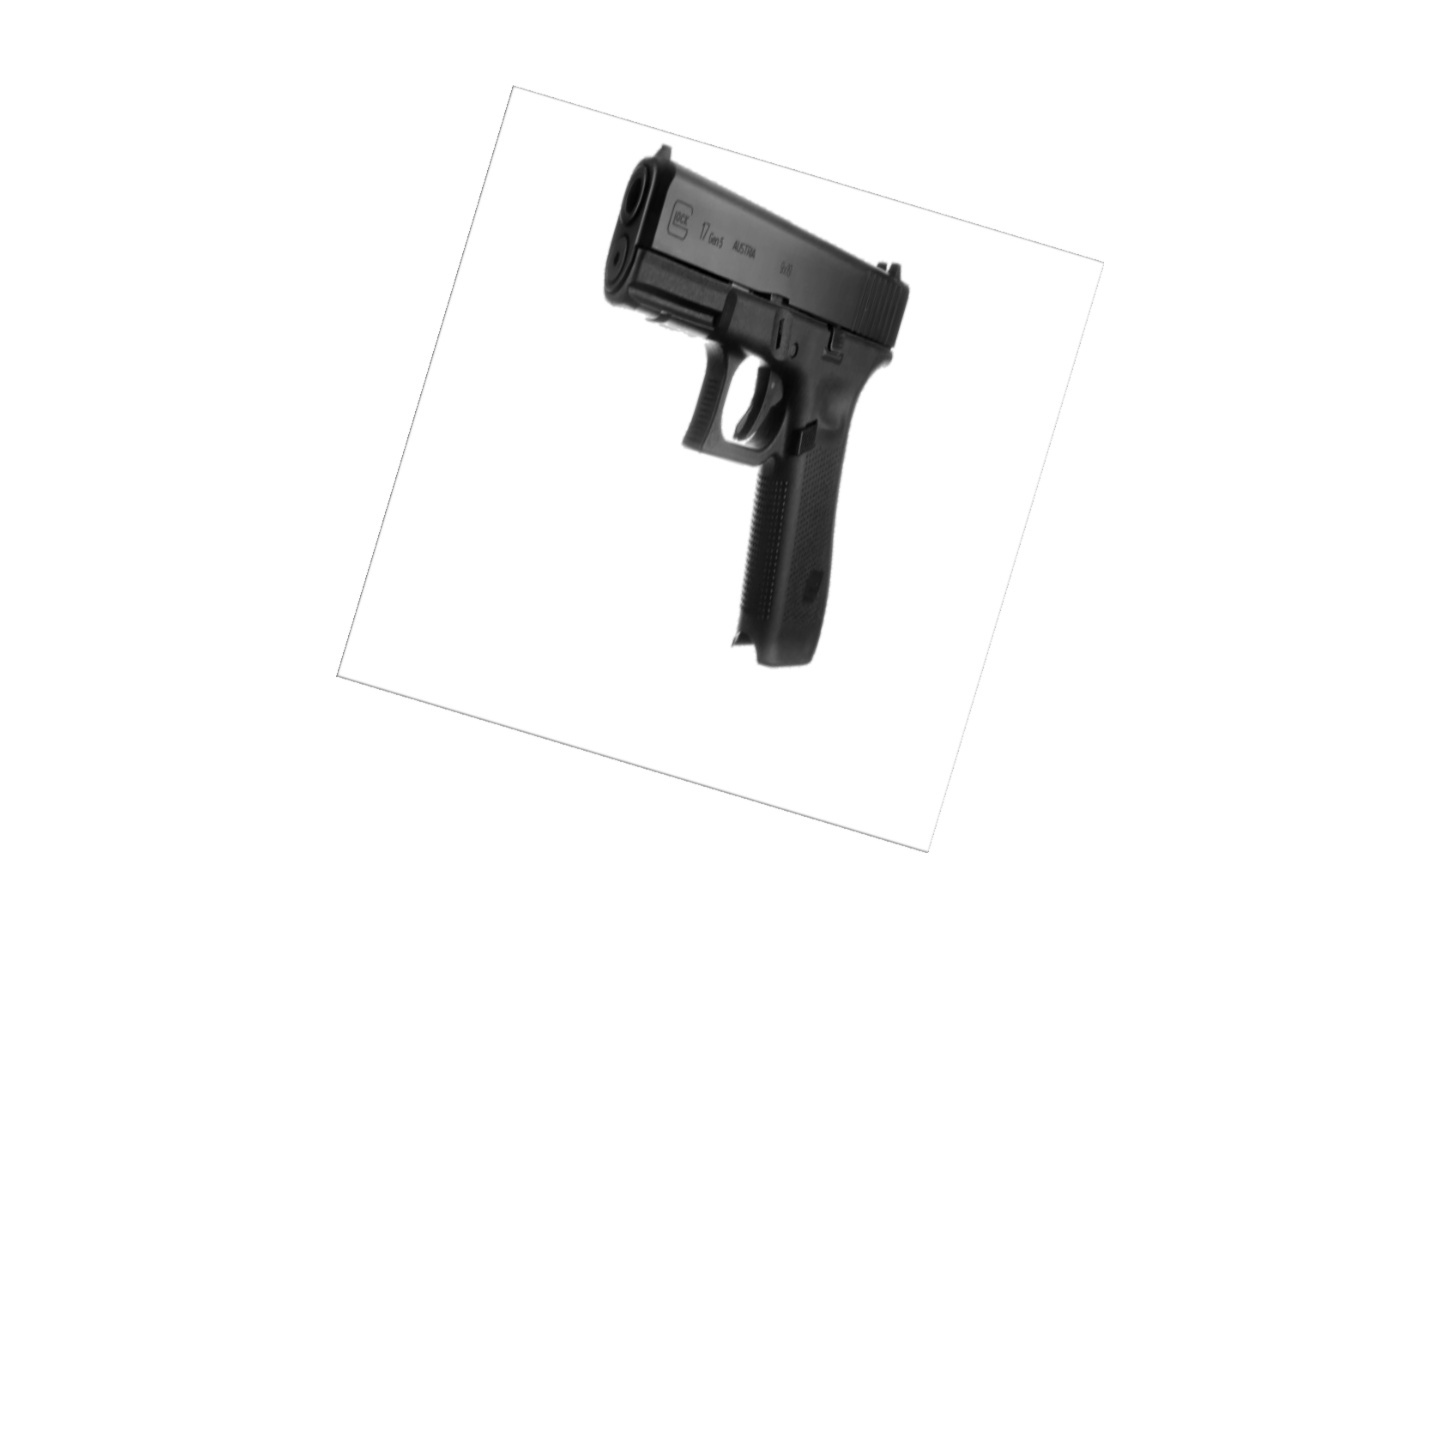gun: (591, 142, 928, 672)
